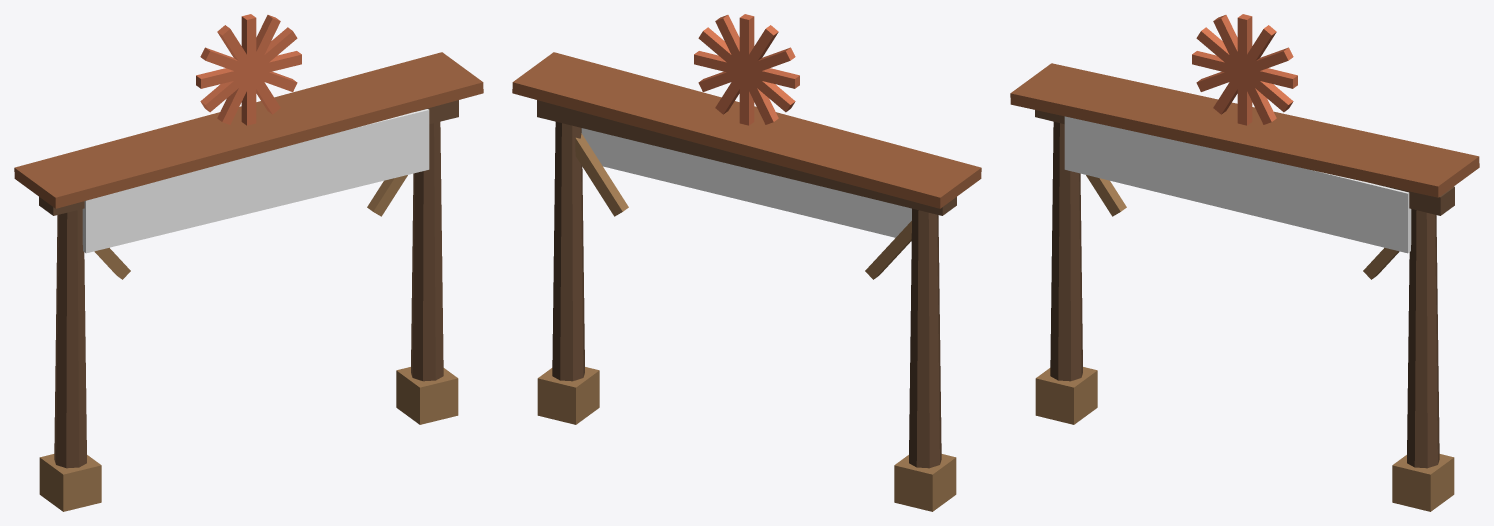
Rendered from alignment-outpost.glb.
3 renders of one model, left to right at view 1: azimuth 30°, elevation 25°; view 2: azimuth 150°, elevation 25°; view 3: azimuth 330°, elevation 25°, orthographic.
Visible parts, largest first — view 1: alignment-outpost, Sign_Board, Claude_Sunburst; view 2: alignment-outpost, Sign_Board, Claude_Sunburst; view 3: alignment-outpost, Sign_Board, Claude_Sunburst.
Part boxes in pixels (x1,y1,x2,y2): alignment-outpost: (14,52,483,511); Sign_Board: (82,109,429,253); Claude_Sunburst: (196,14,301,125); alignment-outpost: (512,52,981,511); Sign_Board: (581,128,911,241); Claude_Sunburst: (694,14,799,125); alignment-outpost: (1010,63,1479,511); Sign_Board: (1064,116,1411,253); Claude_Sunburst: (1192,14,1297,125).
Bounding box in the file's own units: 4.8 × 4.7 × 0.8.
